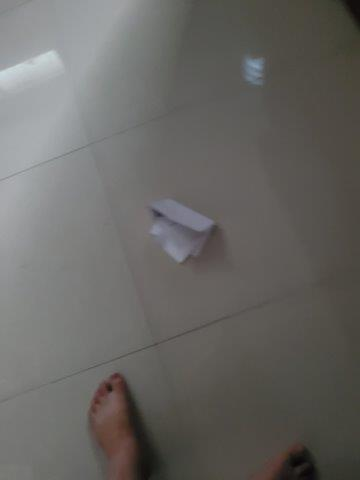kertas: (146, 198, 216, 264)
